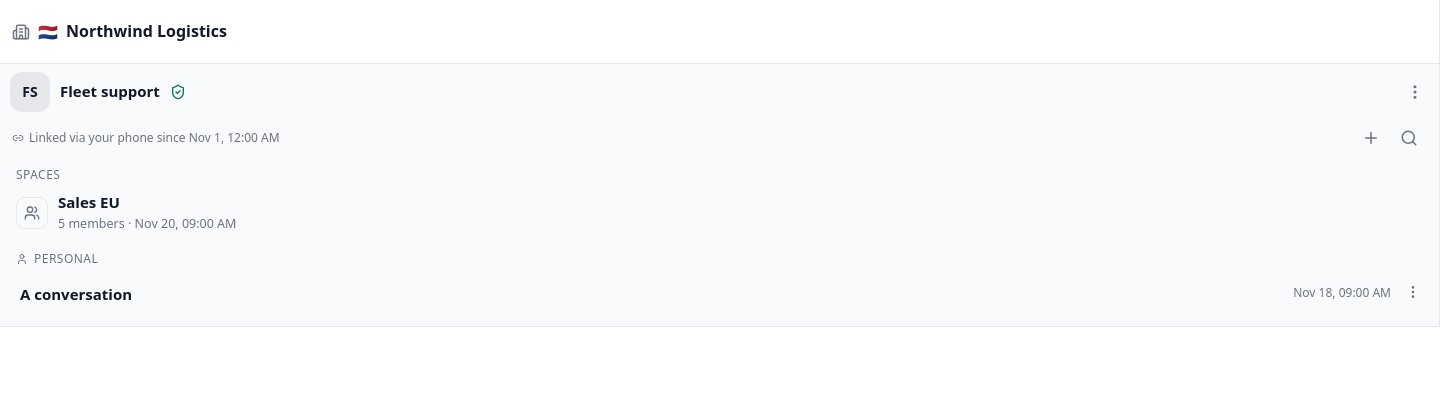
Test: Show Admin waits for the phone (UI-ADMIN-002) › reads "Confirm on your phone", then "Not confirmed on your phone" when declined, and no area shows
This screenshot has width=1440, height=398.
Click the 1st button named "Agent options".
click(1415, 92)  # box [1397,74,1433,110]
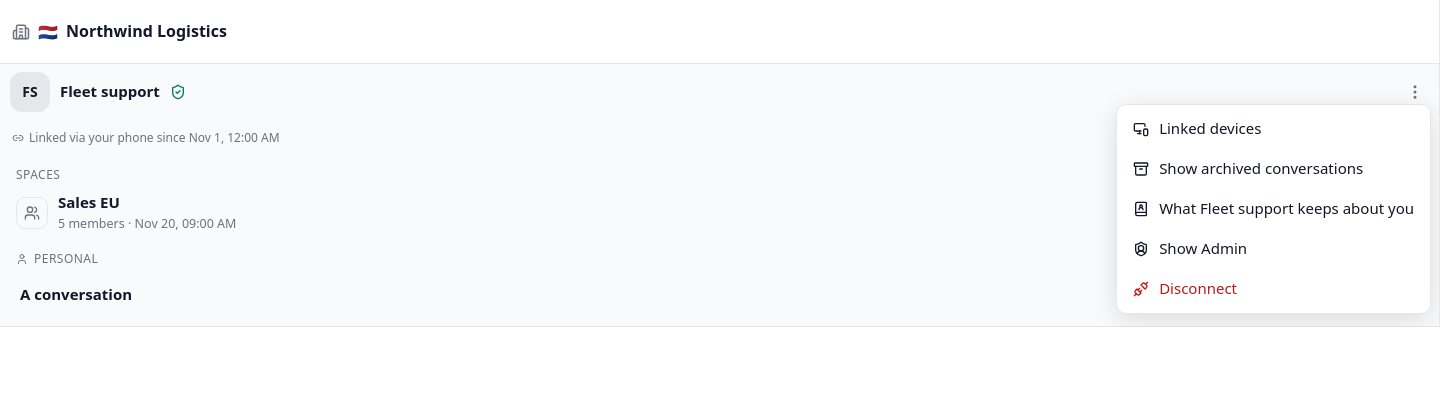
Click the menu item "Show Admin".
click(1203, 248)  # box [1121,229,1426,269]
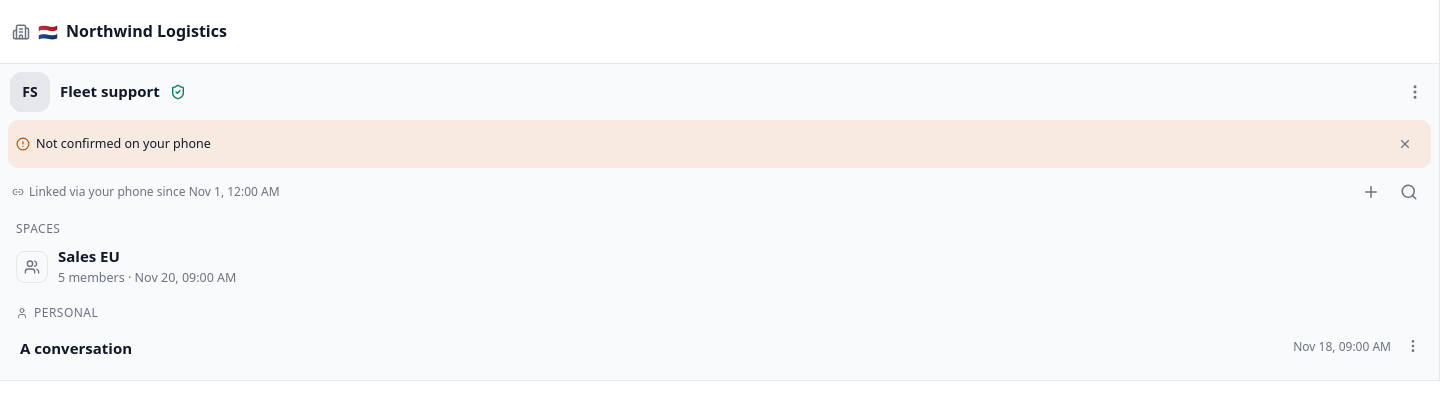
expect the text "Not confirmed on your phone" is shown: met, box [36,135,211,152]
Click the button named "Close".
click(1405, 144)  # box [1387,126,1423,162]
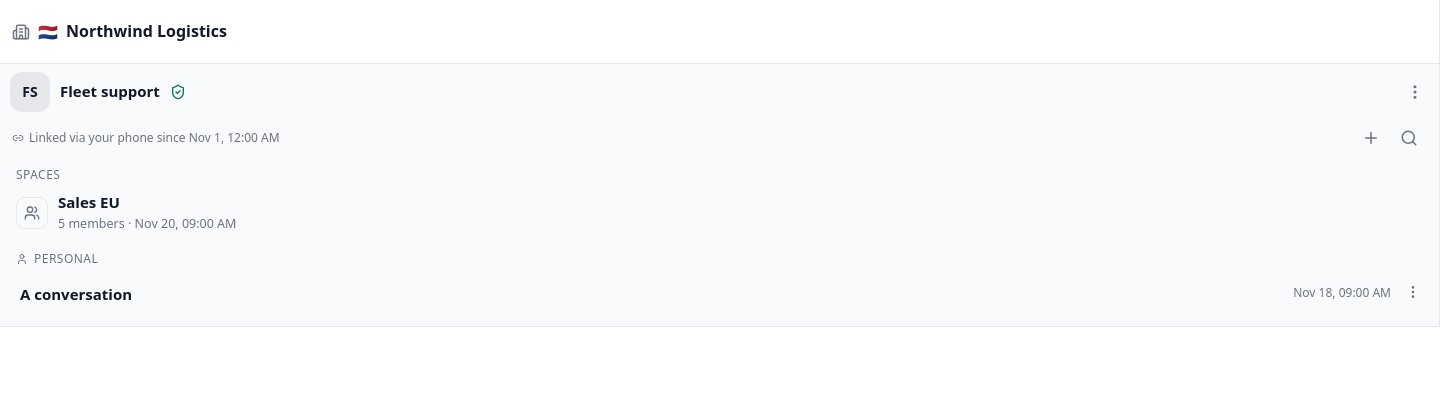
expect the message with class "admin-request" is gone: met
Click the 1st button named "Agent options".
click(1415, 92)  # box [1397,74,1433,110]
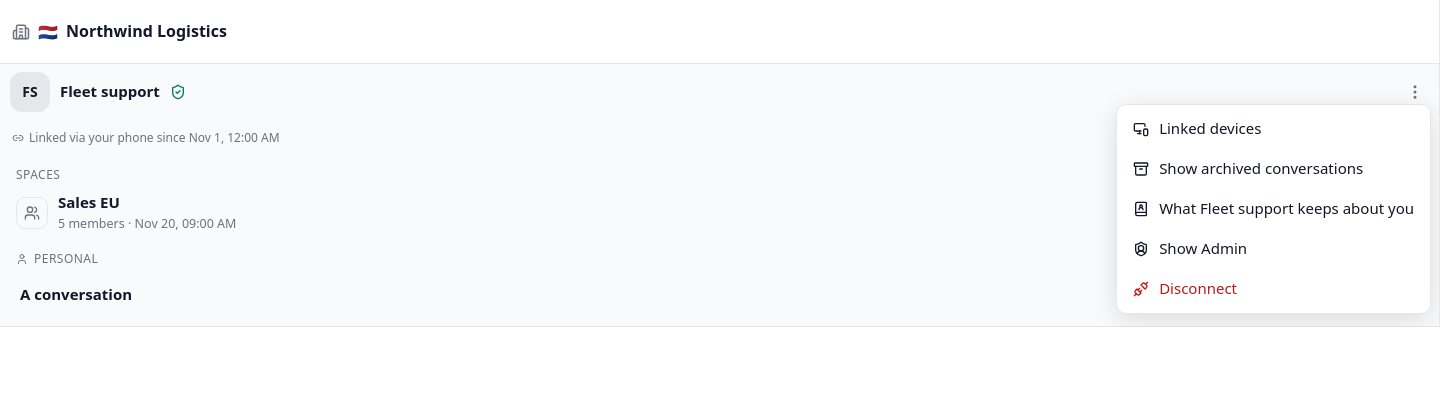
expect the menu item "Show Admin" is shown: met, box [1121,229,1426,269]
